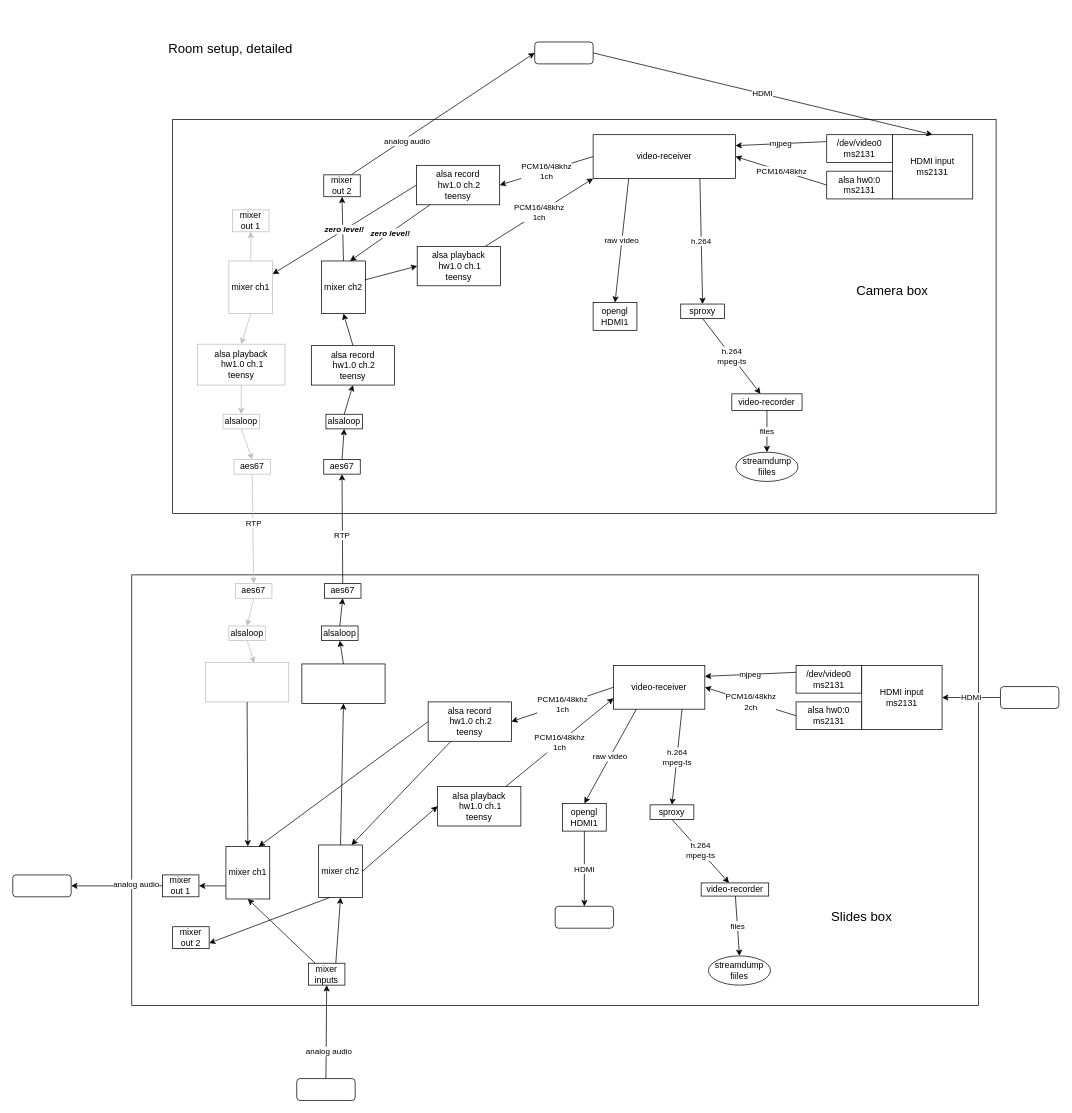
Image size: 1072x1113. Some labels were removed from this diagram. The shapes that lost their labels are listed below. From the top down, each one's centre as x and y in pixels, then its label:
the point at 563,52: camera
the point at 247,682: alsa record hw1.0 ch.1 teensy
the point at 343,683: alsa playback hw1.0 ch.2 teensy
the point at 1029,697: presenter
the point at 41,885: Room PA
the point at 584,917: beamer
the point at 325,1089: microphones
